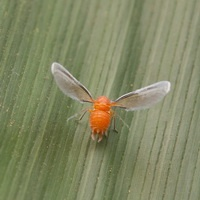insect: (51, 62, 170, 141)
